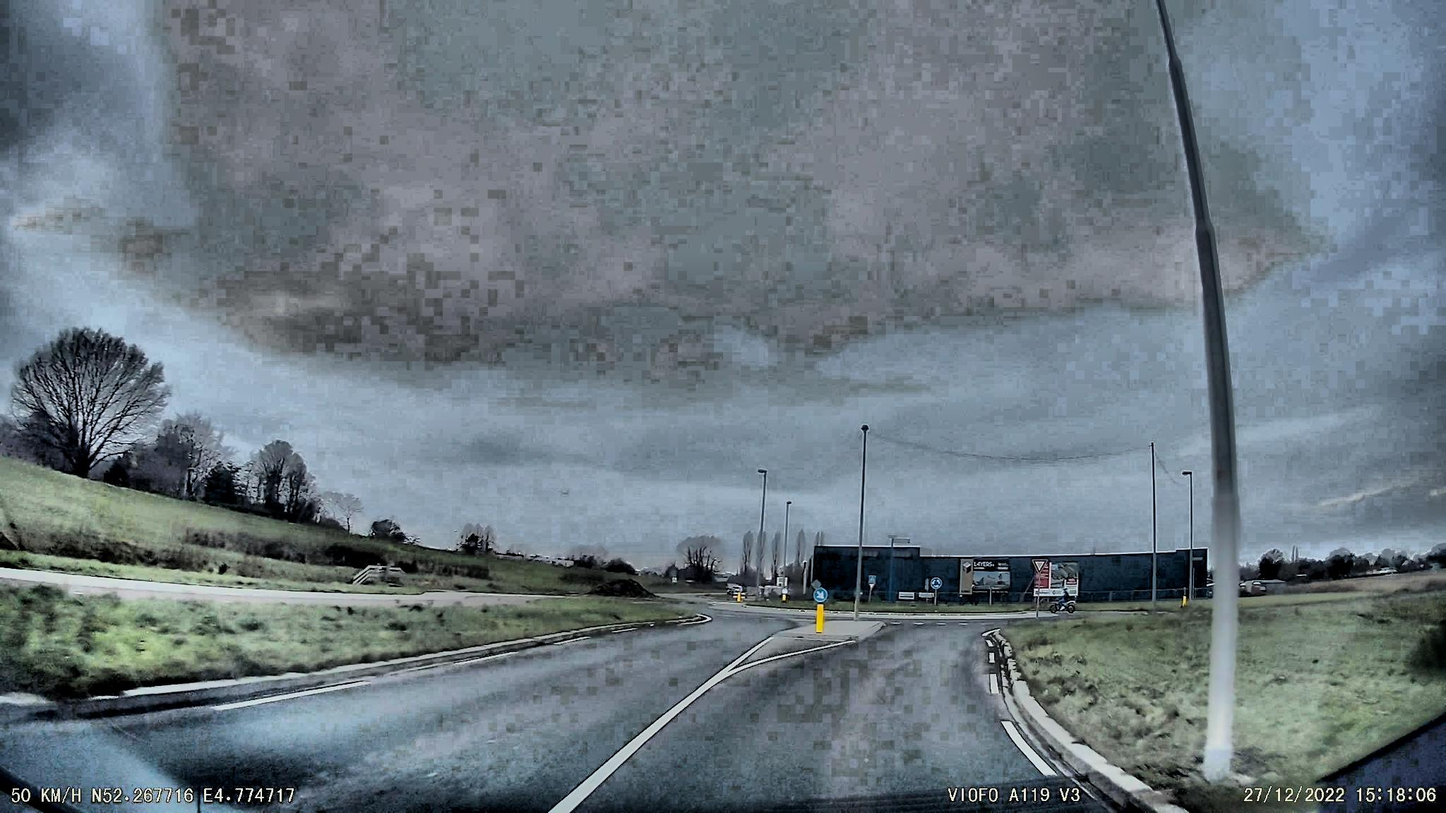Roads: (0, 611, 1188, 813)
